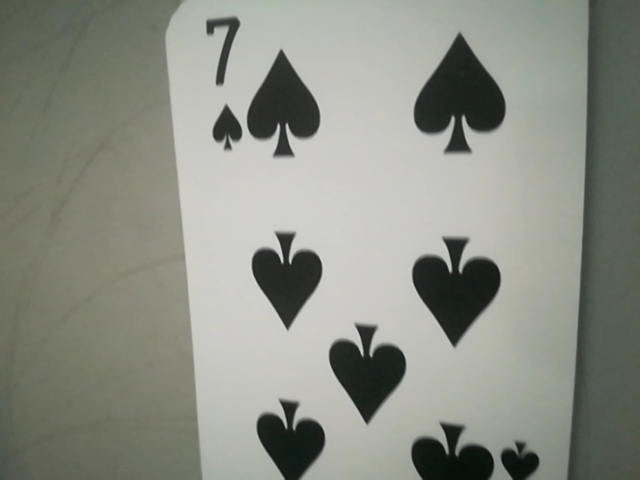ht 7: (188, 16, 252, 166)
